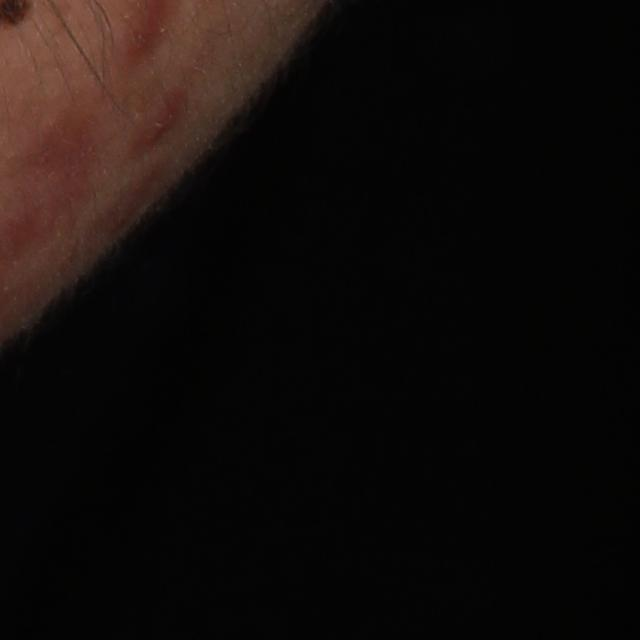papule: (146, 99, 184, 144)
